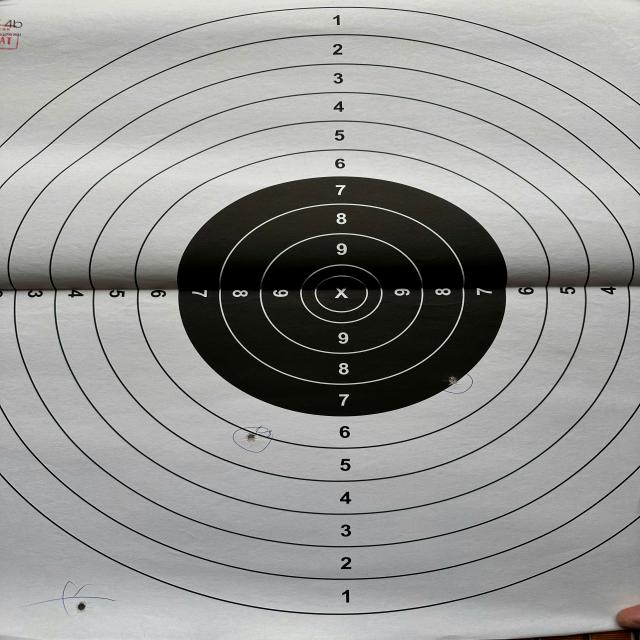bullet: (448, 376, 459, 386), (77, 603, 86, 612), (246, 433, 254, 441)
target: (0, 0, 640, 640)
